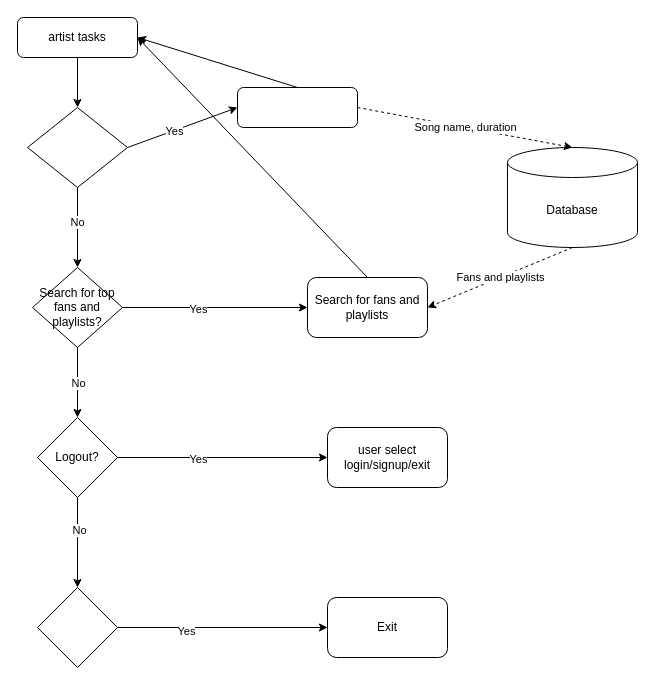
Image size: 655x685. Some labels were removed from this diagram. The shapes that lost their labels are listed below. From the top down, each one's centre as x and y in pixels, then its label:
the point at 297,107: Add a song
the point at 77,147: Add a song?
the point at 77,627: Exit?
